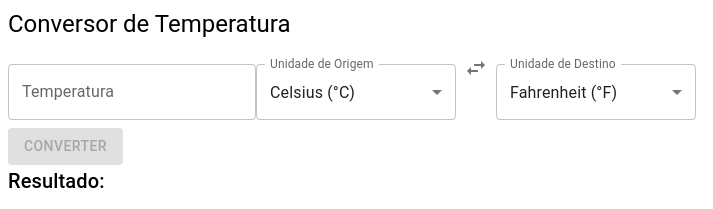
Scenario: ConversorTemperatura › troca unidades e reconverte automaticamente
Type "32" into the number field labelled "Temperatura" at [132, 92], box [8, 64, 256, 120]
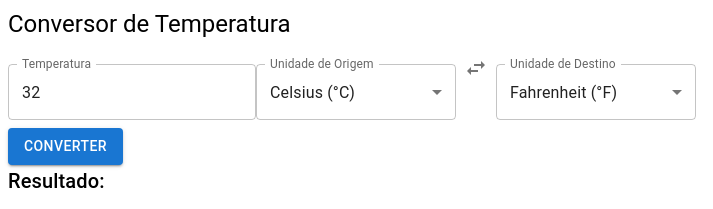
Click the 1st button at [476, 68], box [456, 48, 496, 88]
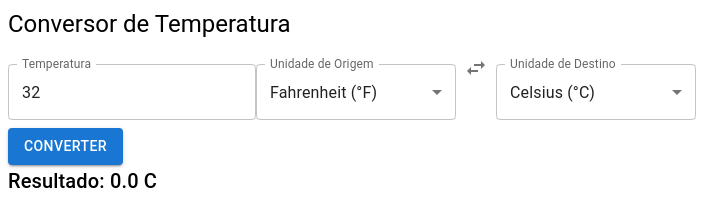
Expected: the heading "Resultado: 0.0 C" is shown, [8, 169, 157, 193]
